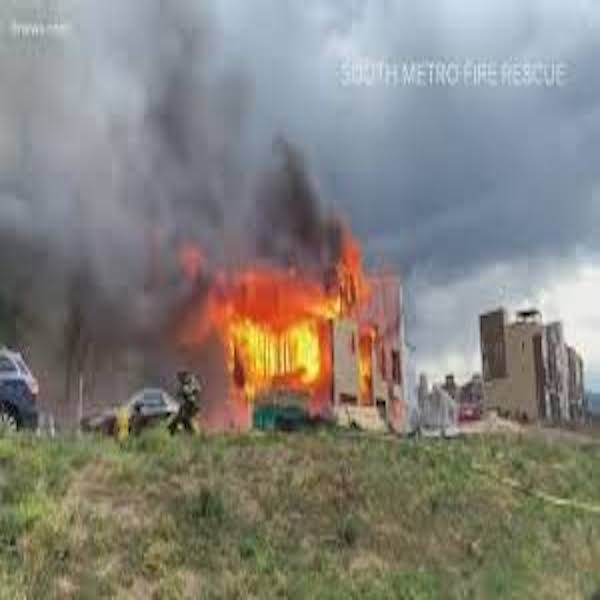fire: (212, 266, 323, 380), (323, 239, 364, 313), (357, 339, 373, 398)
